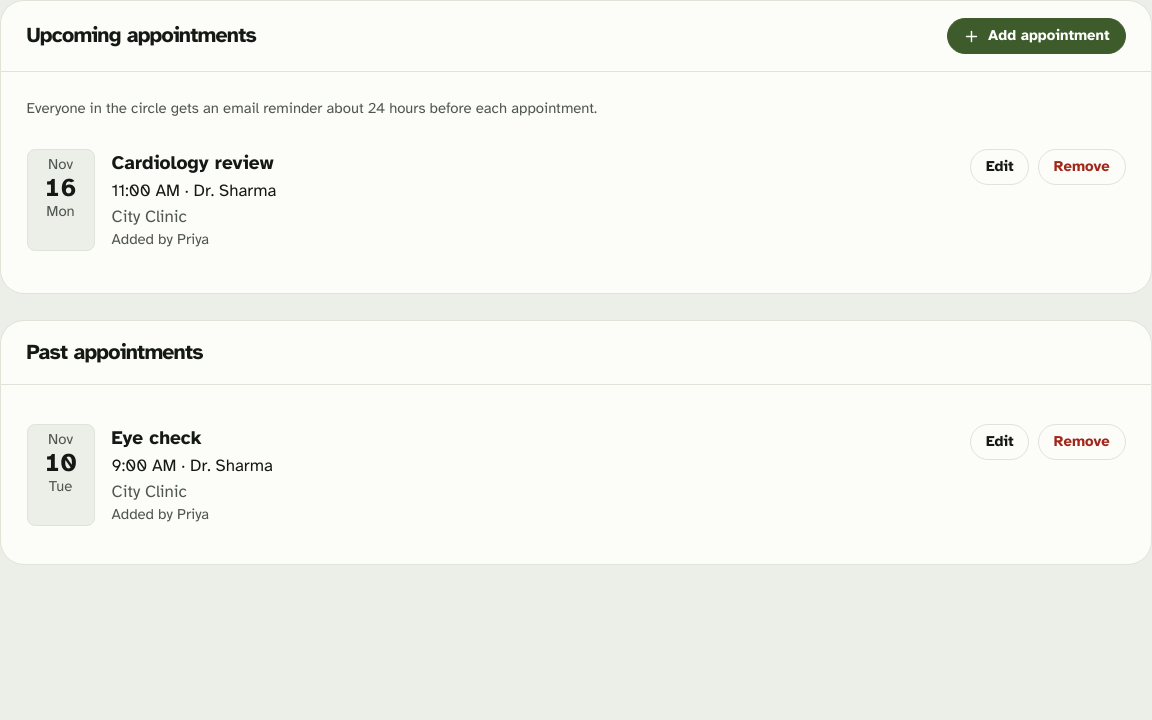
Test: Appointments › editing a past appointment opens its form
This screenshot has width=1152, height=720.
Click the button "Edit" in the row of "Eye check".
click(1000, 442)  # box [970, 424, 1030, 460]
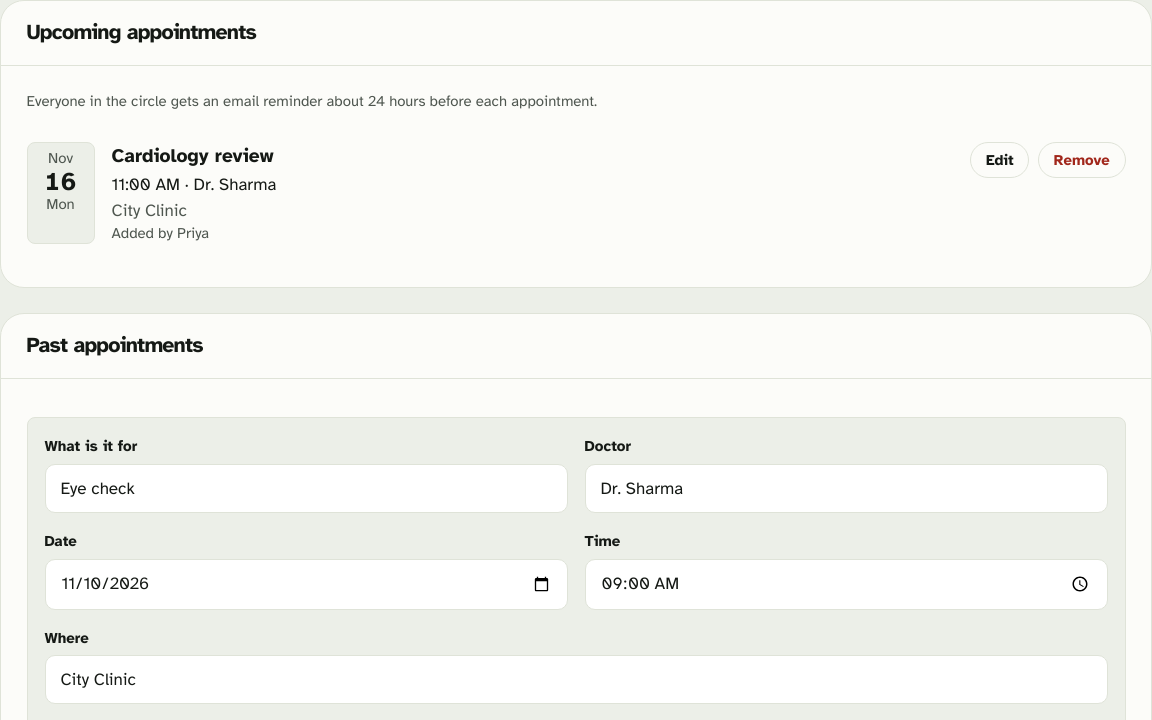
Now the field showing "Eye check" is shown, box [44, 464, 568, 513]
